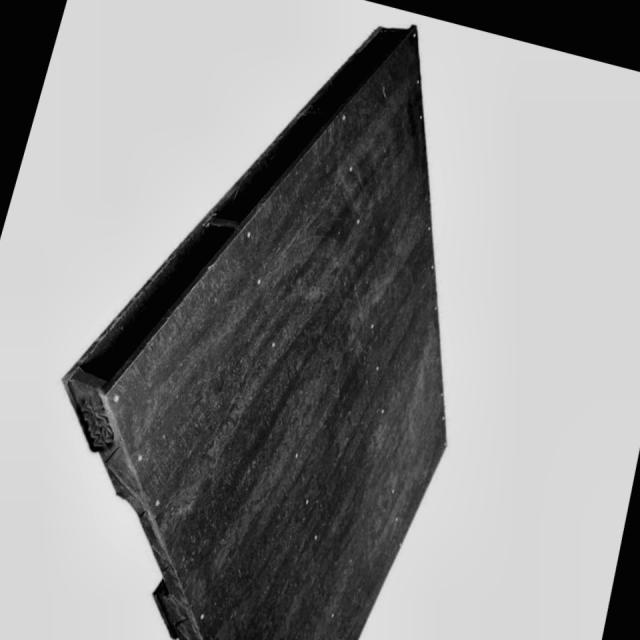non-igps: (53, 18, 456, 640)
